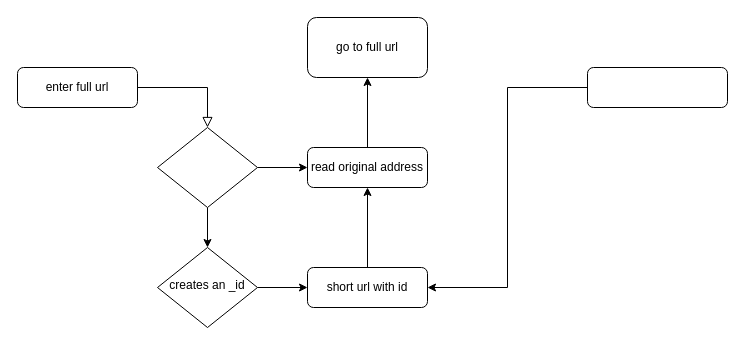
This 745x345 diagram has some shape labels left out. The shapes that lost their labels are listed below. From the top down, each one's box as (x1, y1, x2, y2) in pixels, then its label:
(586, 66, 728, 108): short url with _id used
(156, 126, 258, 208): Database
